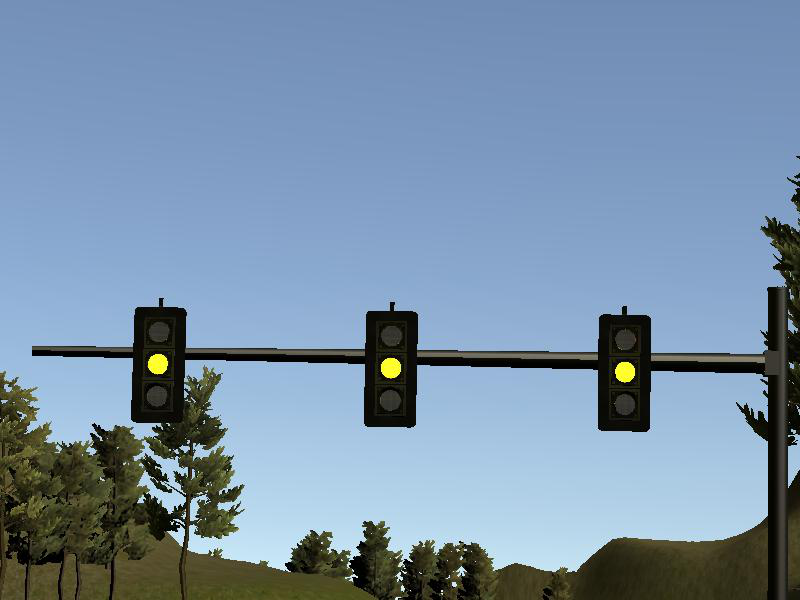yellow: (130, 305, 187, 422), (598, 315, 652, 433), (366, 311, 417, 427)
